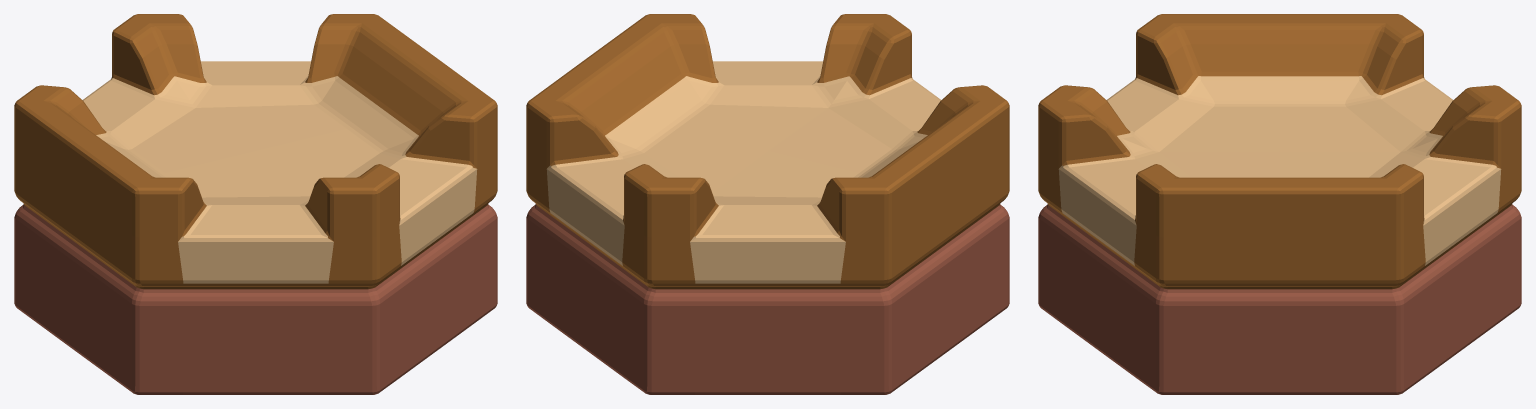
Rendered from my_road_1245.fbx.
The picture shows the model from 3 angles, left to right: view 1: azimuth 30°, elevation 25°; view 2: azimuth 150°, elevation 25°; view 3: azimuth 270°, elevation 25°; orthographic projection.
Visible parts, largest first — view 1: Circle.002; view 2: Circle.002; view 3: Circle.002.
Part boxes in pixels (x1,y1,x2,y2): Circle.002: (14,14,497,394); Circle.002: (526,14,1009,394); Circle.002: (1038,14,1521,394).
Bounding box in the file's own units: 200 × 109 × 230.
